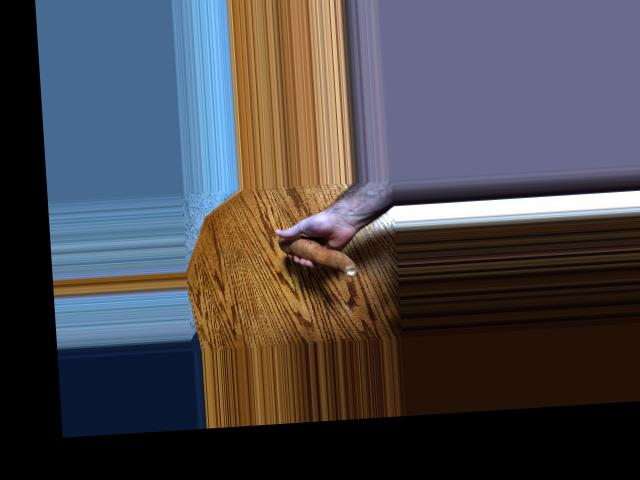sweet_potato: (281, 233, 361, 279)
